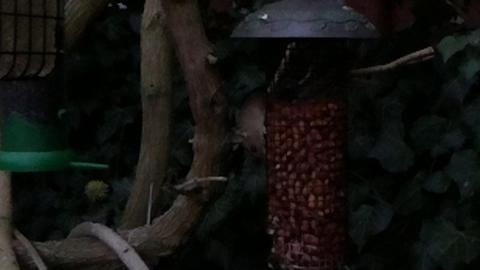mouse: (232, 91, 268, 160)
